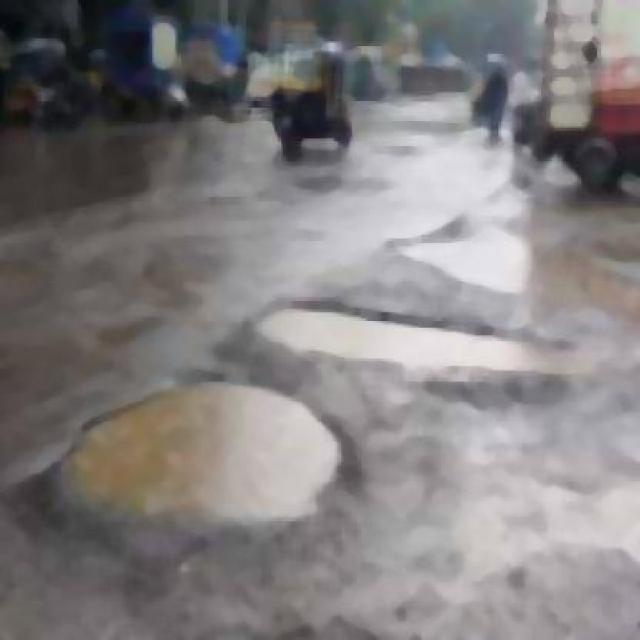Pothole: (46, 362, 360, 582), (248, 266, 586, 389)
